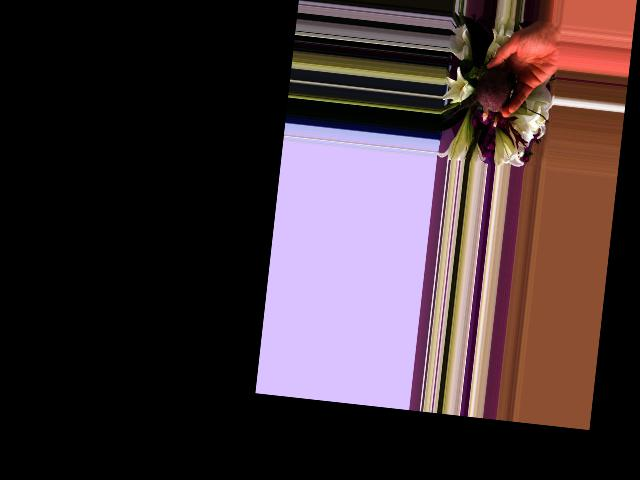beet: (442, 62, 518, 130)
